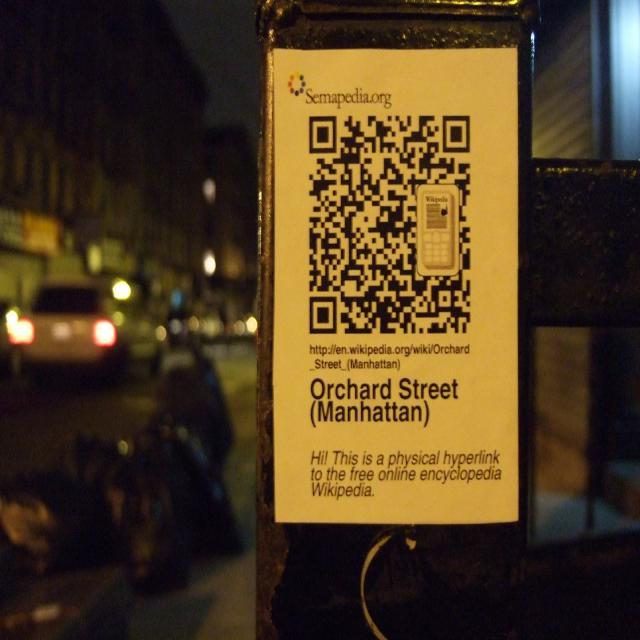qrcode: (310, 117, 471, 335)
